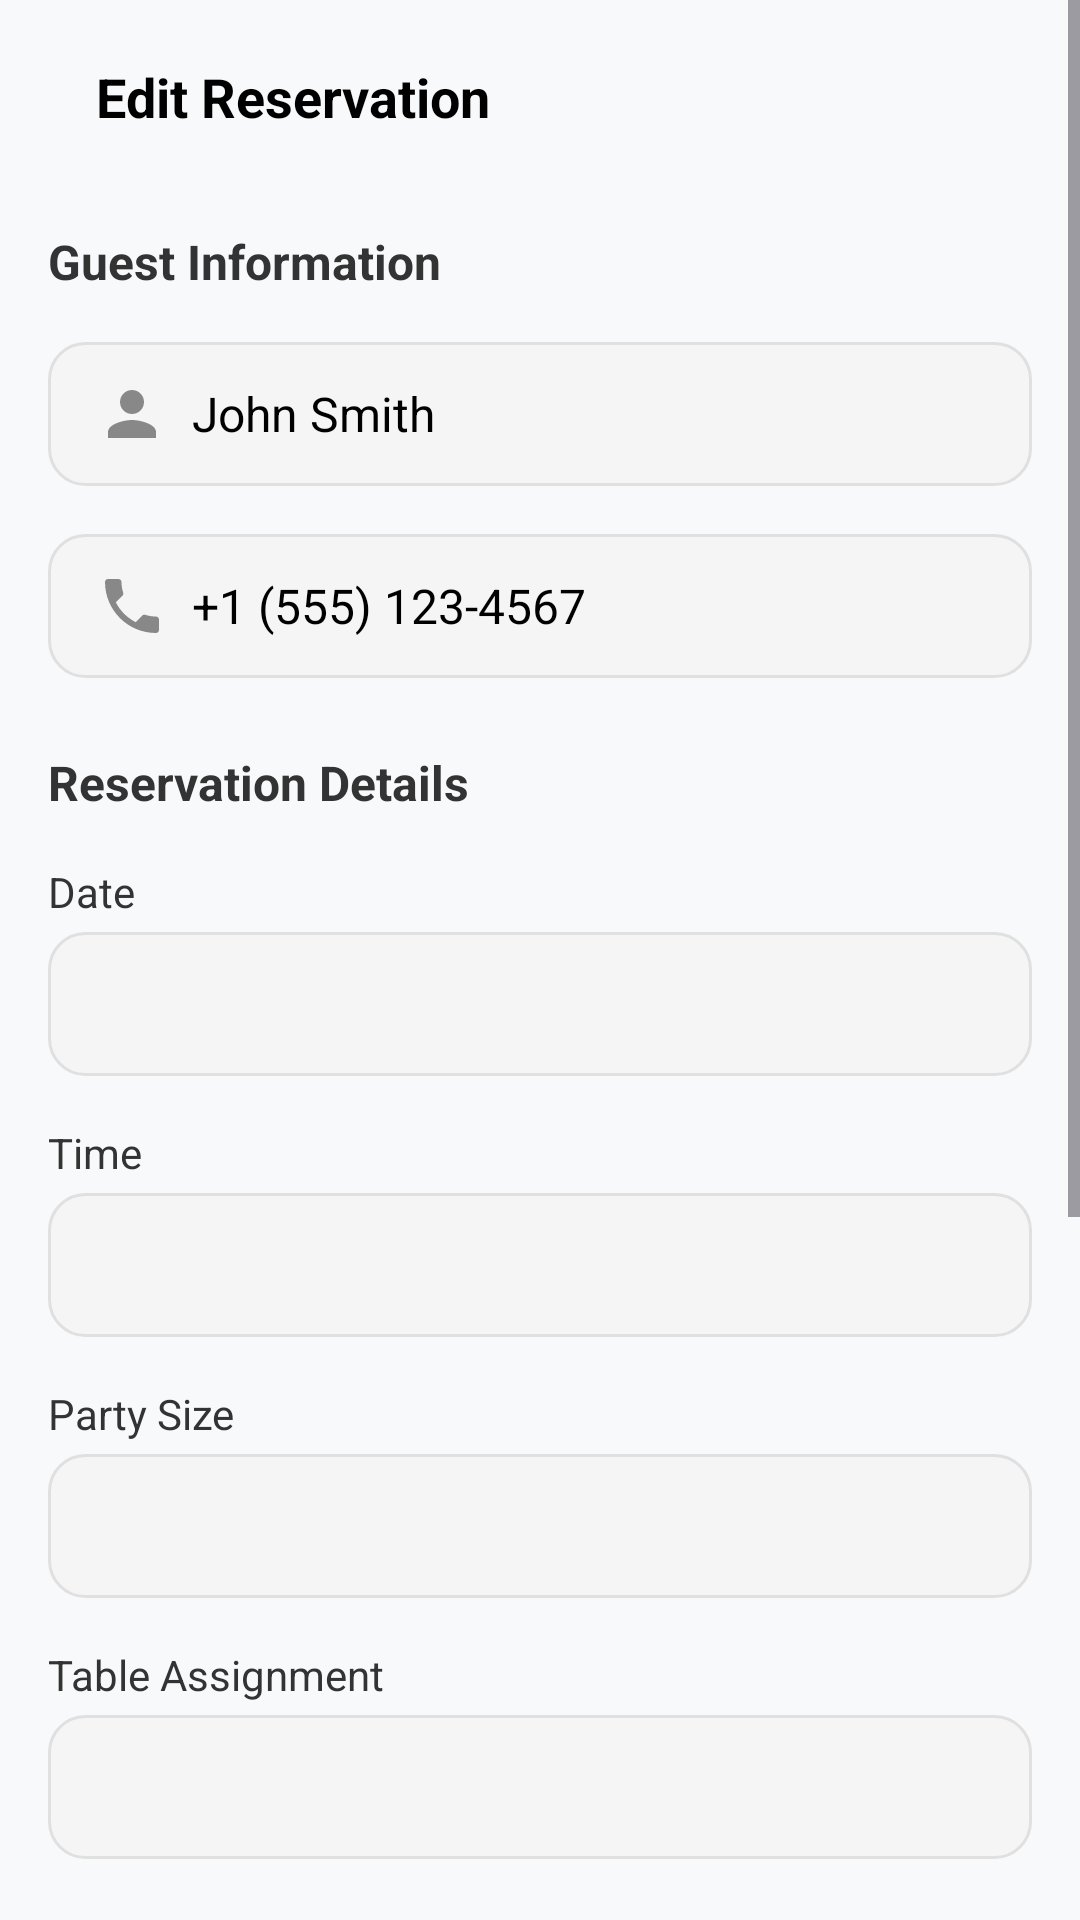

Screen size 1080×1920. Icon name, then its box in pixels as (x1, y1, x2, y2):
call: (105, 579, 159, 633)
person: (108, 390, 156, 438)
